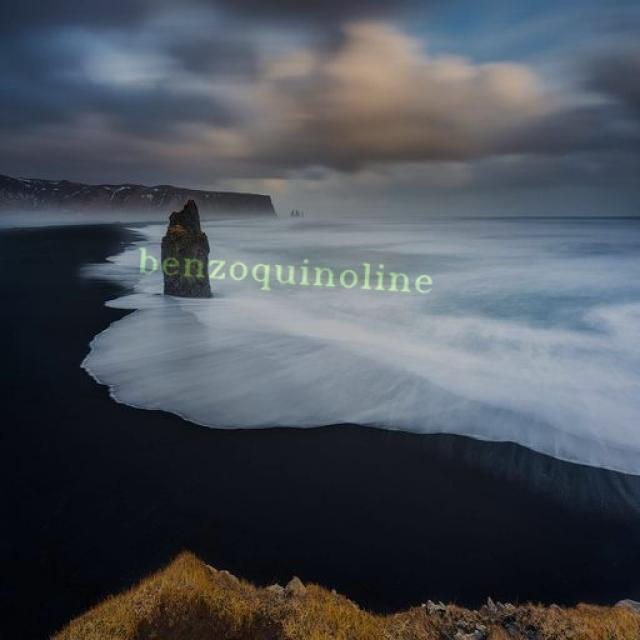watermark: (126, 245, 458, 298)
